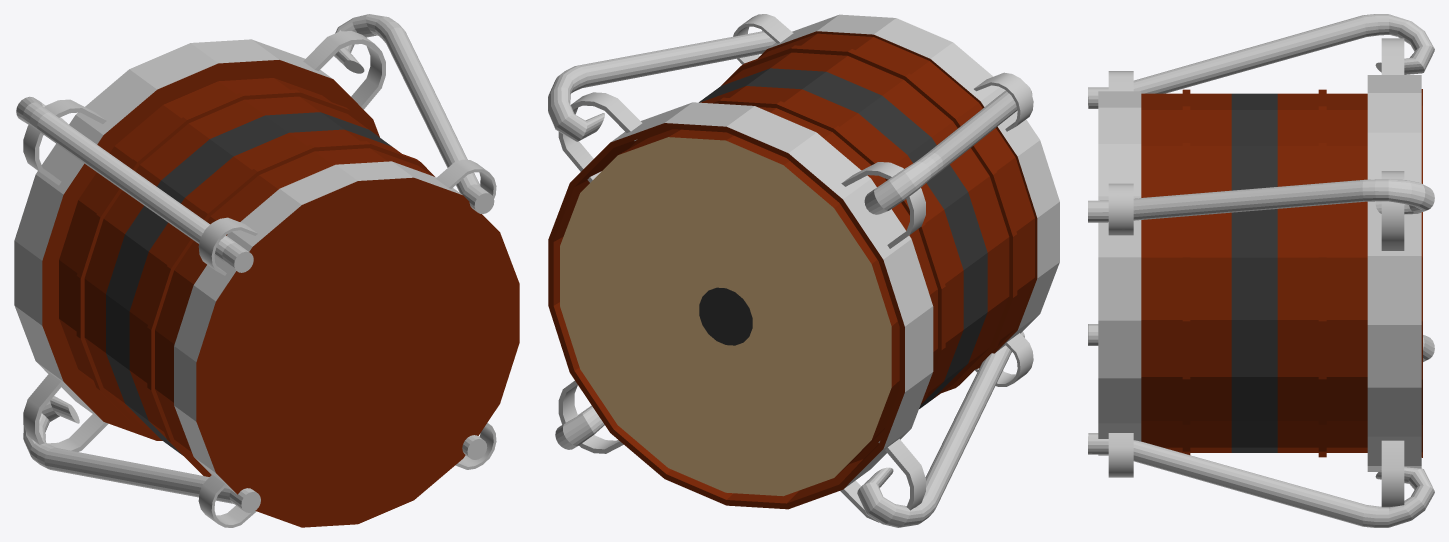
Rendered from Bongos.fbx.
3 views of the same model, side by side, from view 1: azimuth 30°, elevation 25°; view 2: azimuth 150°, elevation 25°; view 3: azimuth 270°, elevation 25° (orthographic). The views are drawn at different scales.
Parts seen in each view (by area): view 1: imagetostl_mesh8, imagetostl_mesh4, imagetostl_mesh5, imagetostl_mesh0, imagetostl_mesh10, imagetostl_mesh3, imagetostl_mesh6, imagetostl_mesh1, imagetostl_mesh12, imagetostl_mesh7, imagetostl_mesh11; view 2: imagetostl_mesh8, imagetostl_mesh0, imagetostl_mesh5, imagetostl_mesh4, imagetostl_mesh10, imagetostl_mesh3, imagetostl_mesh6, imagetostl_mesh2, imagetostl_mesh12, imagetostl_mesh9, imagetostl_mesh7, imagetostl_mesh1; view 3: imagetostl_mesh8, imagetostl_mesh2, imagetostl_mesh0, imagetostl_mesh4, imagetostl_mesh9, imagetostl_mesh10, imagetostl_mesh7, imagetostl_mesh11, imagetostl_mesh6, imagetostl_mesh12, imagetostl_mesh5.
Part boxes in pixels (left/top/right/bottom): imagetostl_mesh8: left=14, top=39, right=519, bottom=527; imagetostl_mesh4: left=16, top=96, right=253, bottom=272; imagetostl_mesh5: left=23, top=396, right=260, bottom=512; imagetostl_mesh0: left=334, top=14, right=494, bottom=213; imagetostl_mesh10: left=303, top=31, right=385, bottom=109; imagetostl_mesh3: left=23, top=373, right=108, bottom=451; imagetostl_mesh6: left=23, top=99, right=106, bottom=185; imagetostl_mesh1: left=198, top=474, right=256, bottom=527; imagetostl_mesh12: left=198, top=217, right=257, bottom=275; imagetostl_mesh7: left=436, top=159, right=496, bottom=198; imagetostl_mesh11: left=455, top=423, right=496, bottom=469; imagetostl_mesh8: left=548, top=14, right=1059, bottom=509; imagetostl_mesh0: left=548, top=30, right=775, bottom=141; imagetostl_mesh5: left=857, top=331, right=1024, bottom=527; imagetostl_mesh4: left=864, top=84, right=1032, bottom=214; imagetostl_mesh10: left=558, top=92, right=642, bottom=182; imagetostl_mesh3: left=840, top=439, right=925, bottom=522; imagetostl_mesh6: left=841, top=162, right=925, bottom=248; imagetostl_mesh2: left=555, top=405, right=604, bottom=449; imagetostl_mesh12: left=974, top=72, right=1033, bottom=131; imagetostl_mesh9: left=558, top=381, right=623, bottom=453; imagetostl_mesh7: left=733, top=14, right=793, bottom=64; imagetostl_mesh1: left=975, top=333, right=1033, bottom=386; imagetostl_mesh8: left=1098, top=75, right=1422, bottom=471; imagetostl_mesh2: left=1088, top=433, right=1434, bottom=527; imagetostl_mesh0: left=1088, top=179, right=1434, bottom=222; imagetostl_mesh4: left=1088, top=14, right=1434, bottom=108; imagetostl_mesh9: left=1381, top=440, right=1404, bottom=507; imagetostl_mesh10: left=1381, top=171, right=1404, bottom=250; imagetostl_mesh7: left=1108, top=183, right=1133, bottom=235; imagetostl_mesh11: left=1108, top=433, right=1133, bottom=477; imagetostl_mesh6: left=1381, top=38, right=1404, bottom=74; imagetostl_mesh12: left=1108, top=71, right=1133, bottom=91; imagetostl_mesh5: left=1088, top=324, right=1434, bottom=361.
Size of the model in its own units: 5.76e+07 by 5.55e+07 by 4.83e+07.
